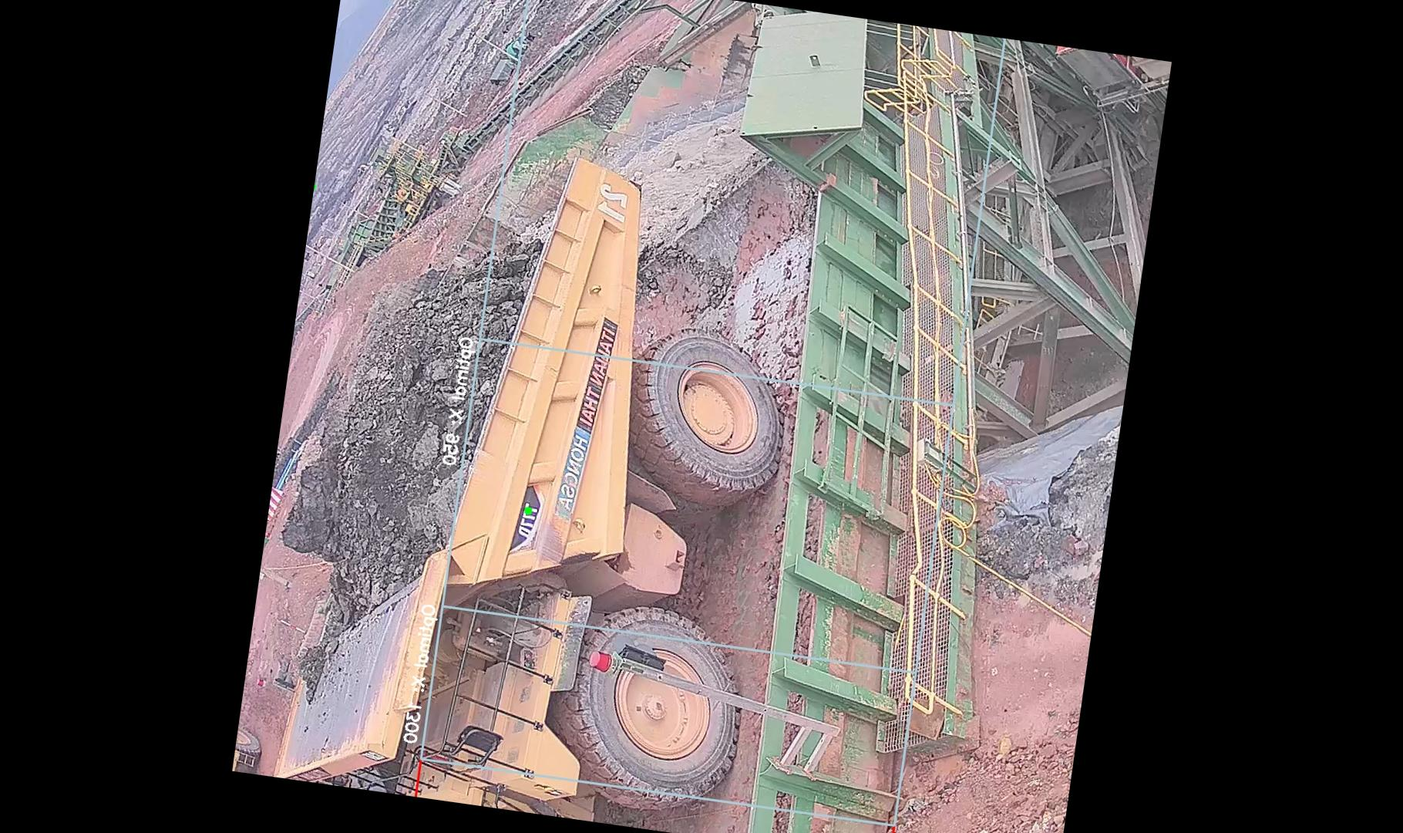company: (545, 303, 619, 541)
full_load: (270, 211, 538, 615)
mining_truck: (237, 113, 819, 833)
tail_number: (589, 172, 637, 231)
truck_size: (508, 483, 549, 561)
